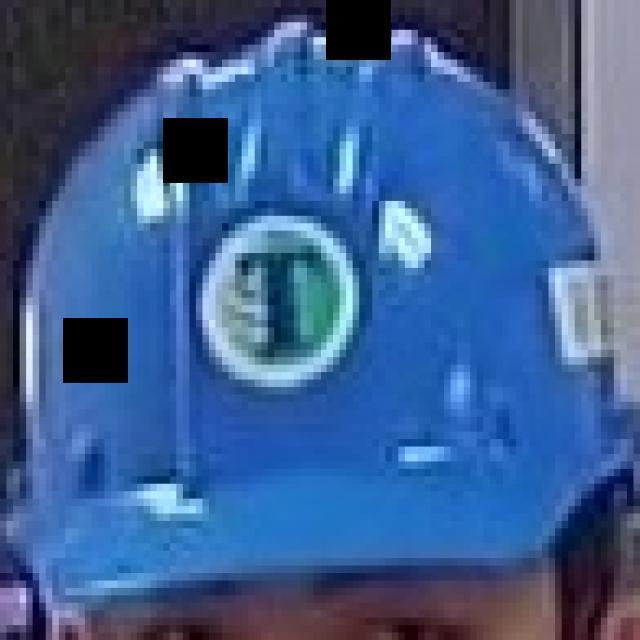blue helmet: (7, 33, 640, 609)
